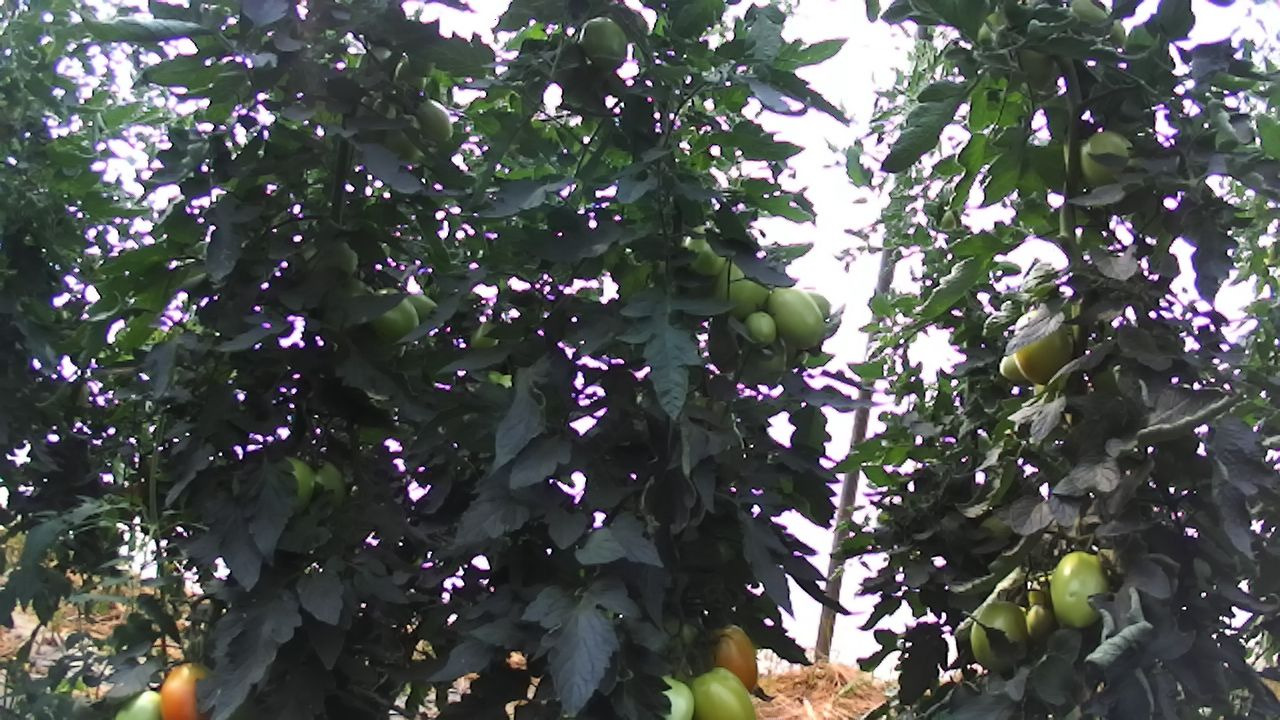tomato: (1006, 298, 1080, 387), (966, 592, 1036, 675), (152, 651, 226, 720), (1048, 549, 1108, 633), (702, 617, 762, 698), (1075, 123, 1140, 194), (764, 280, 827, 353), (688, 663, 760, 720), (363, 284, 420, 347), (578, 13, 628, 72), (413, 95, 454, 143), (743, 307, 780, 348)
